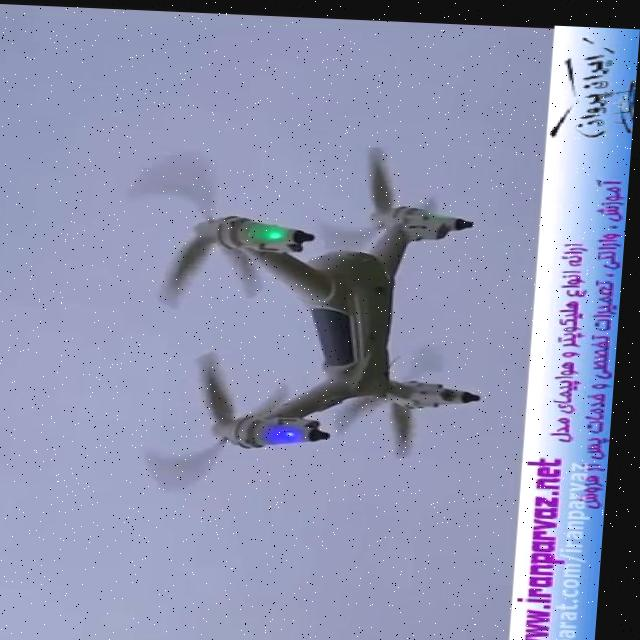drone: (102, 131, 510, 506)
